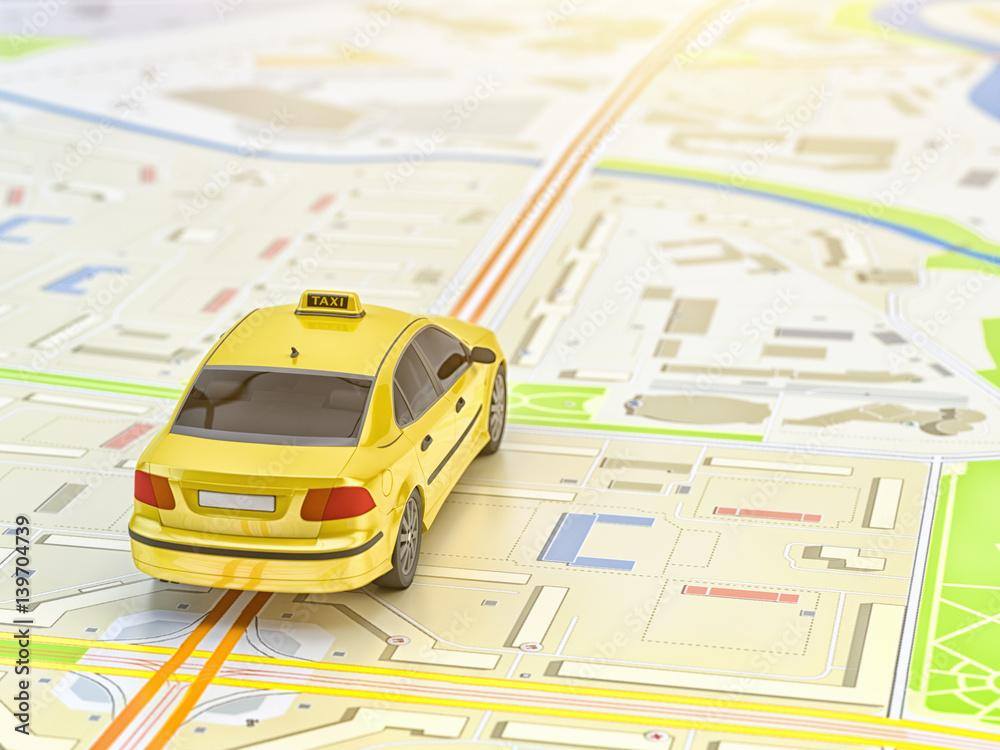taxi: (110, 262, 498, 613)
